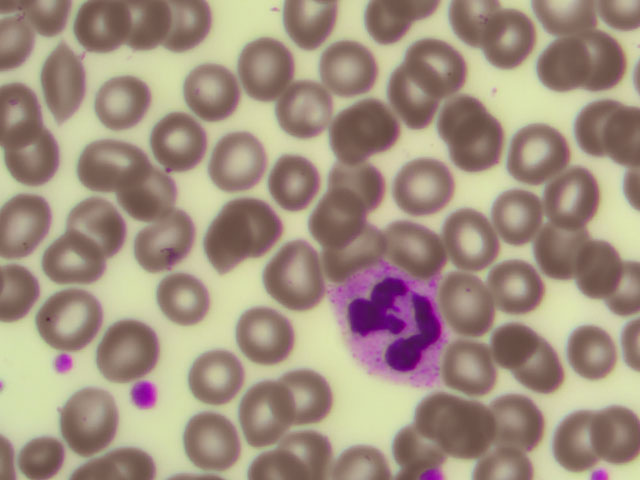Platelets: (128, 378, 159, 405), (54, 354, 86, 376)
RBC: (46, 54, 99, 105), (94, 77, 147, 128), (7, 133, 60, 184), (1, 91, 54, 142), (86, 138, 139, 189), (118, 171, 171, 222), (148, 112, 201, 163), (186, 64, 239, 115), (235, 41, 288, 92), (323, 39, 376, 90), (274, 91, 327, 142), (322, 108, 375, 159), (350, 96, 403, 147), (387, 73, 440, 124), (415, 38, 468, 89), (486, 12, 539, 63), (452, 2, 505, 53), (536, 44, 589, 95), (578, 25, 631, 76), (579, 102, 632, 153), (515, 125, 568, 176), (445, 120, 498, 171), (435, 92, 488, 143), (401, 161, 454, 212), (333, 157, 386, 208), (311, 191, 364, 242), (271, 153, 324, 204), (210, 136, 263, 187), (239, 198, 292, 249), (198, 217, 251, 268), (267, 255, 320, 306), (326, 223, 379, 274), (390, 220, 443, 271), (445, 210, 498, 261), (501, 189, 554, 240), (558, 162, 611, 213), (531, 220, 584, 271), (568, 246, 621, 297), (587, 264, 640, 315), (566, 327, 619, 378), (510, 350, 563, 401), (485, 324, 538, 375), (494, 269, 547, 320), (442, 271, 495, 322), (444, 343, 497, 394), (482, 379, 535, 430), (444, 402, 497, 453), (418, 389, 471, 440), (385, 424, 438, 475), (334, 429, 387, 480), (283, 429, 336, 480), (244, 429, 297, 480), (242, 390, 295, 441), (290, 366, 343, 417), (192, 411, 245, 462), (189, 348, 242, 399), (237, 314, 290, 365), (157, 272, 210, 323), (141, 214, 194, 265), (73, 205, 126, 256), (44, 241, 97, 292), (49, 288, 102, 339), (113, 332, 166, 383), (4, 197, 57, 248), (63, 392, 116, 443), (551, 410, 604, 461), (587, 408, 640, 459), (71, 1, 124, 51), (116, 1, 169, 51), (162, 1, 215, 51), (284, 1, 337, 51)
WBC: (333, 273, 451, 387)
